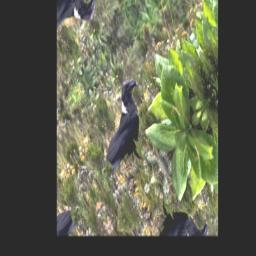Crow: (90, 69, 162, 190)
